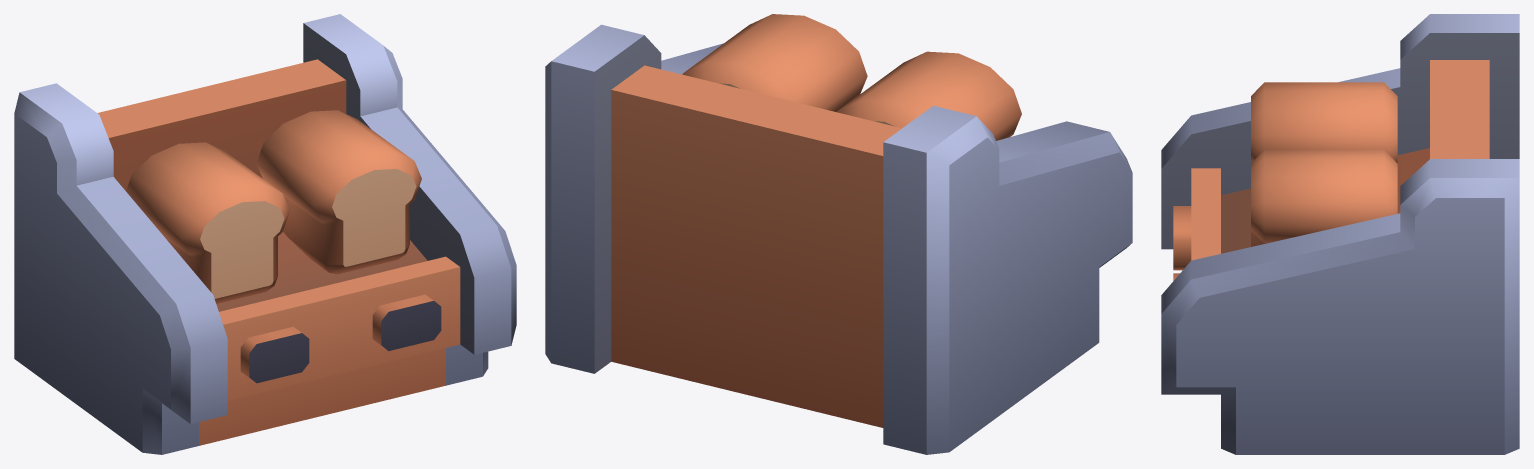
File: display-bread.glb
3 renders of one model, left to right at view 1: azimuth 30°, elevation 25°; view 2: azimuth 150°, elevation 25°; view 3: azimuth 270°, elevation 25°, orthographic. The views are drawn at different scales.
Parts seen in each view (by area): view 1: display-bread, bread (×2); view 2: display-bread, bread (×2); view 3: display-bread, bread (×2).
Boxes of the visible parts, x1=… form: display-bread: x1=14, y1=14, x2=516, y2=454; bread (×2): x1=126, y1=110, x2=421, y2=303; display-bread: x1=545, y1=24, x2=1132, y2=454; bread (×2): x1=682, y1=14, x2=1021, y2=140; display-bread: x1=1161, y1=14, x2=1519, y2=454; bread (×2): x1=1251, y1=82, x2=1397, y2=246.
Bounding box in the file's own units: 0.7 × 0.5 × 0.6.
Materials: 1 (1 with a texture image).
